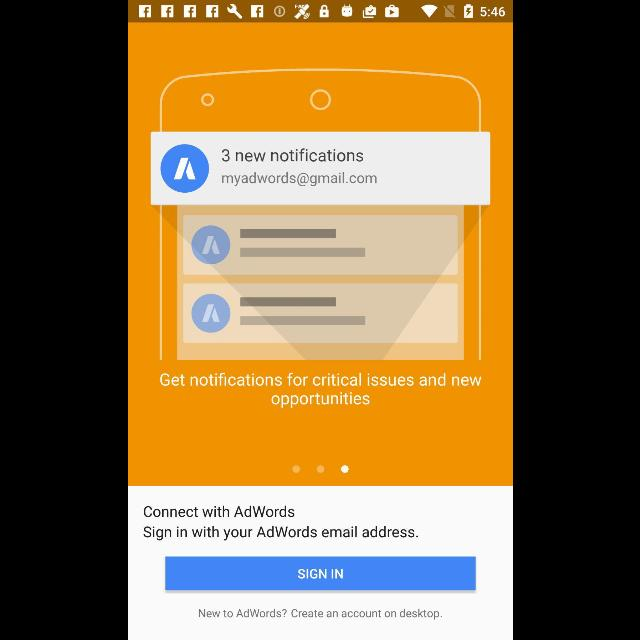image: (150, 68, 490, 360)
pageindicator: (291, 465, 349, 473)
text: (159, 372, 481, 408), (142, 526, 418, 540), (198, 608, 442, 620), (143, 505, 294, 517)
textbutton: (165, 556, 475, 590)
uppertaskbar: (128, 1, 512, 23)
